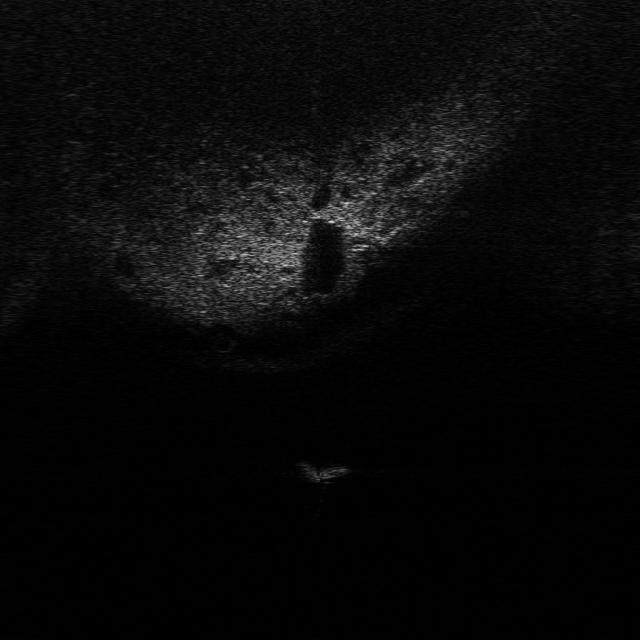cube: (292, 454, 352, 488)
